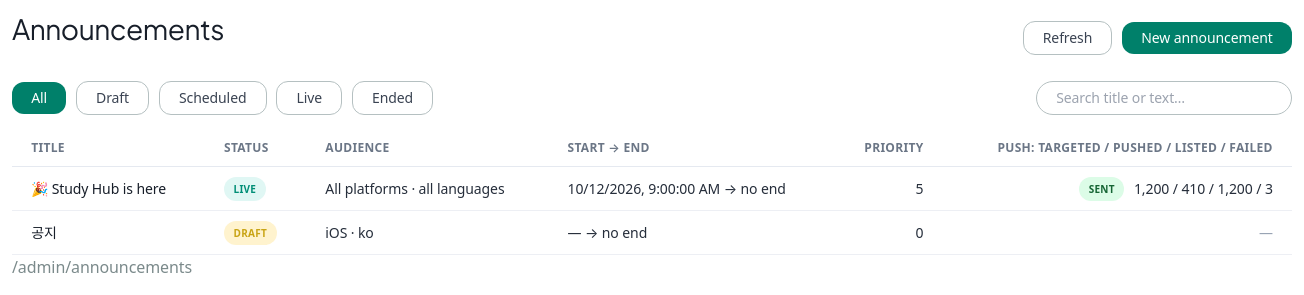
asks for every status by default and narrows by the status filter in the URL
Click the button "Live" at (309, 98), box [276,81,342,115]
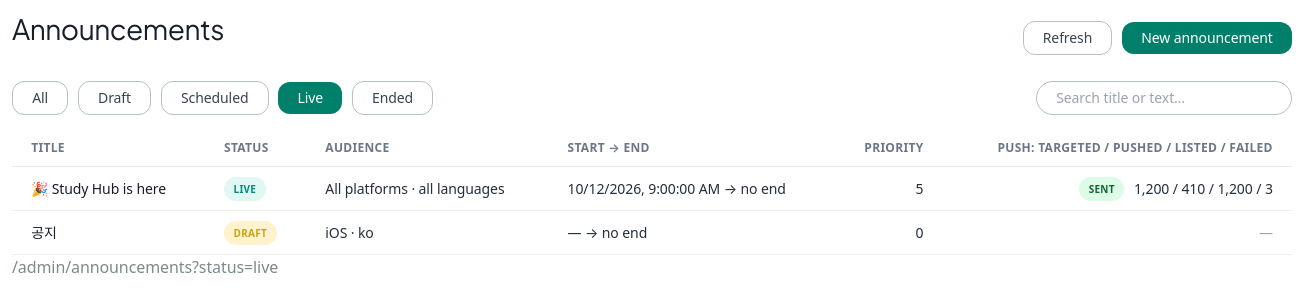
Expected: the text with test id "location" reads "/admin/announcements?status=live", [12,256,278,278]
